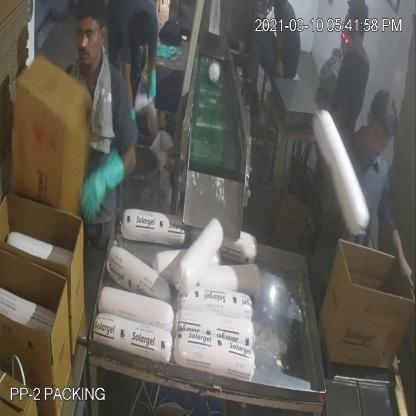glove: (72, 139, 127, 227)
no_glove: (379, 202, 415, 303)
